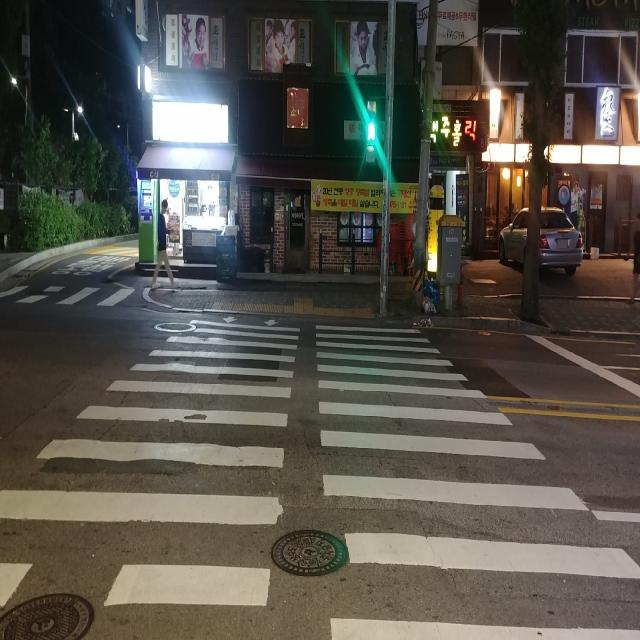초록불: (368, 102, 376, 162)
횡단보도: (0, 314, 640, 640), (2, 283, 135, 306)
